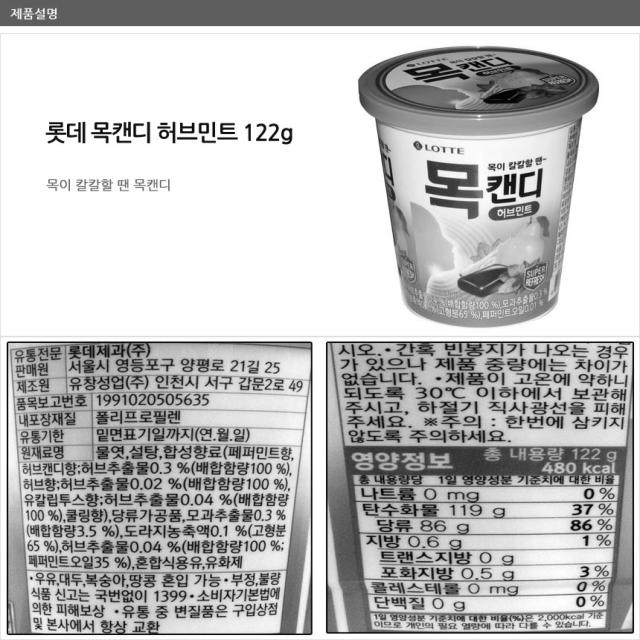Nutrition Label: (337, 434, 634, 640)
